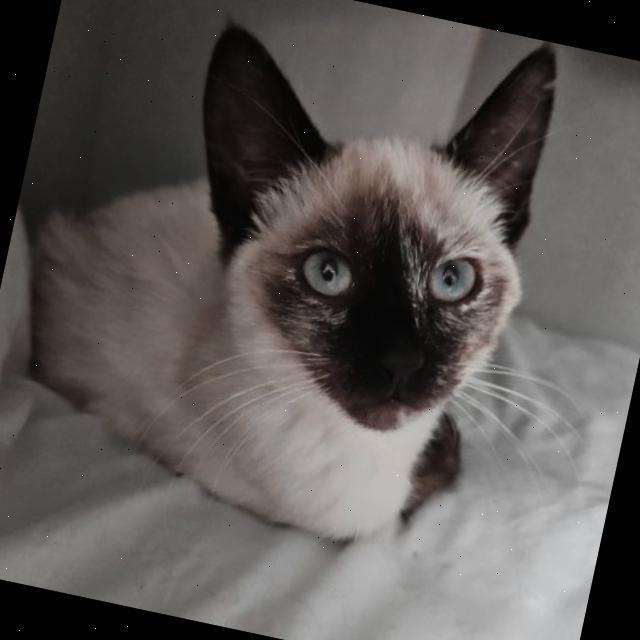siamese_cat: (96, 0, 605, 543)
